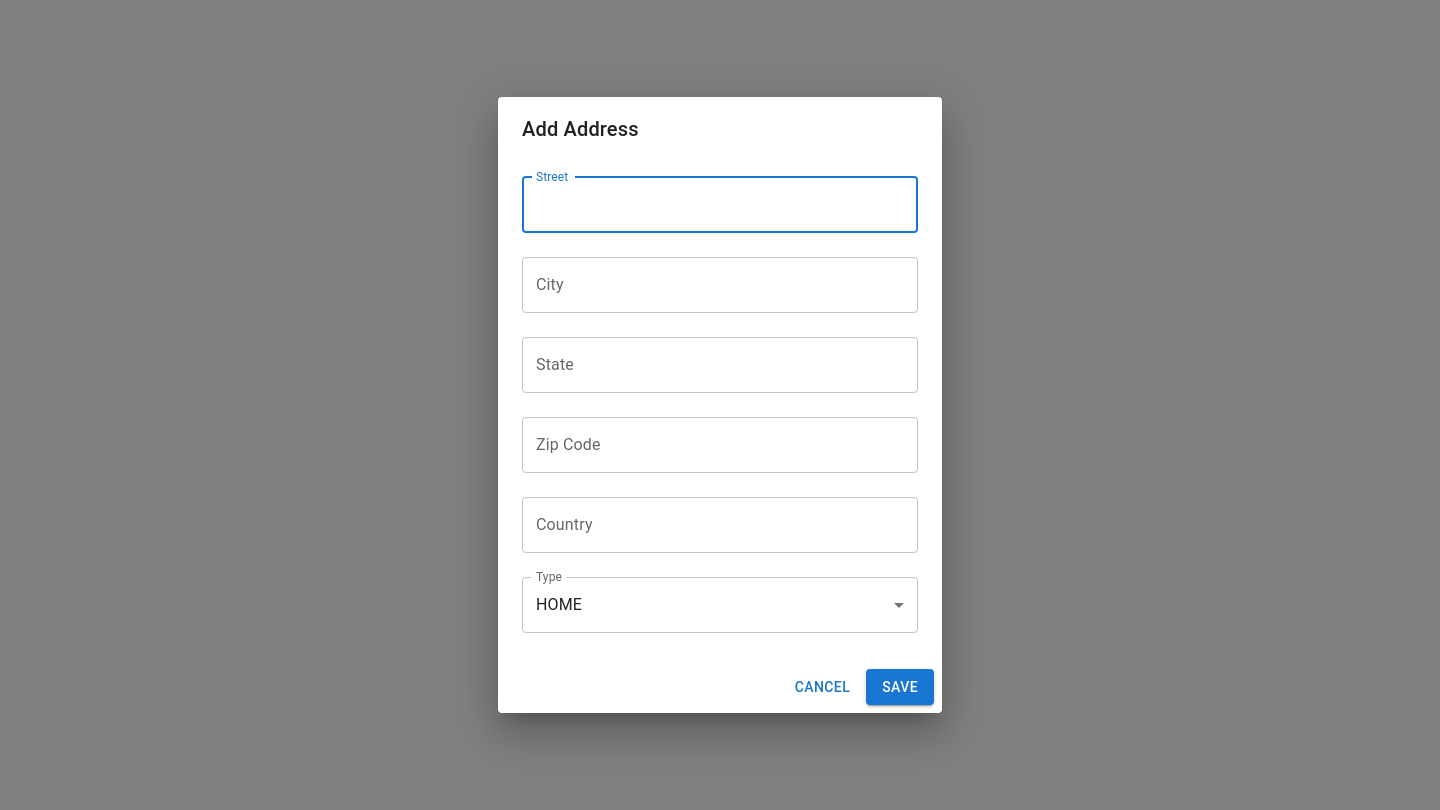
AddressFormDialog error paths › shows backend error when address creation fails
Type "1 Main St" into the field labelled "Street" at (720,205), box [522,177,918,233]
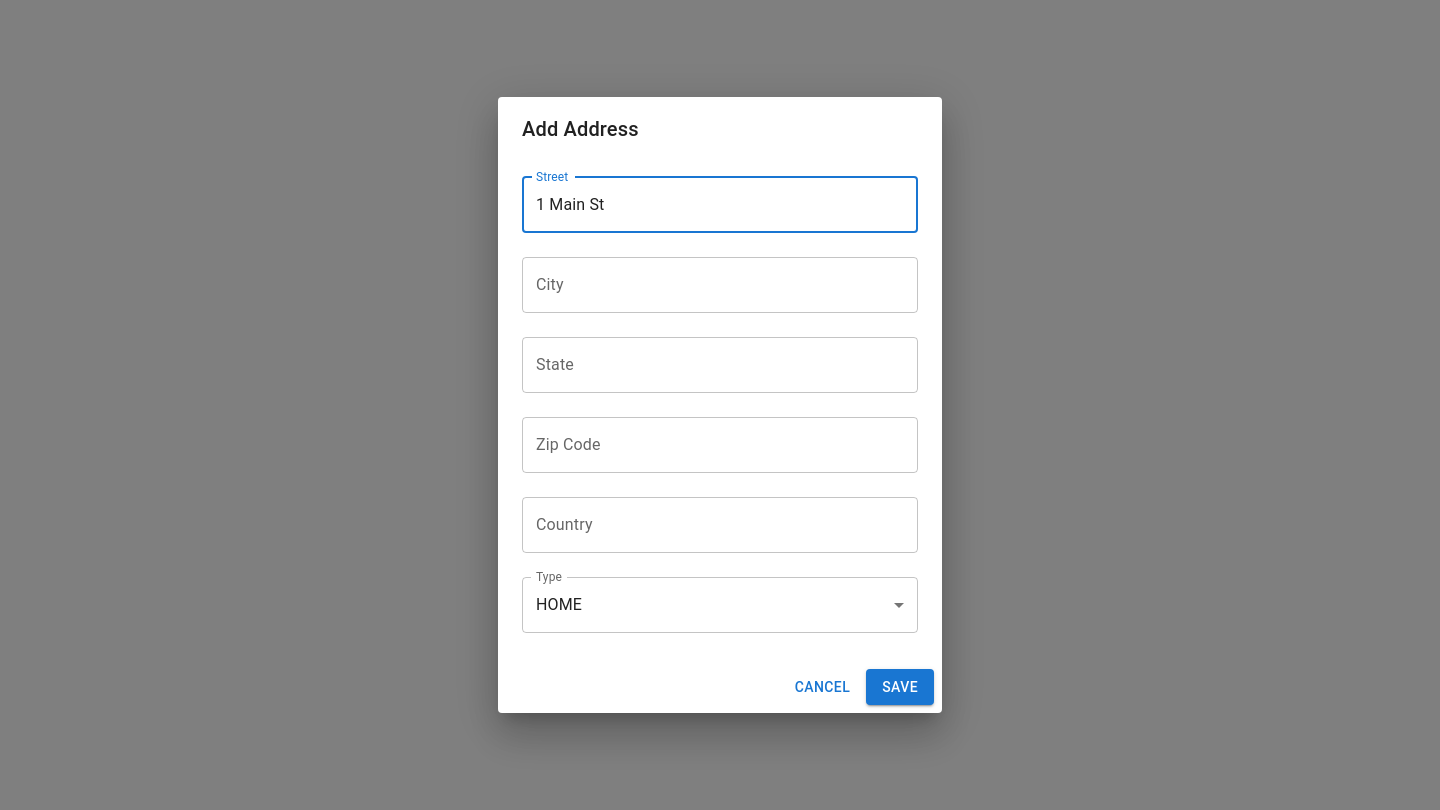
Type "Tel Aviv" into the field labelled "City" at (720,285), box [522,257,918,313]
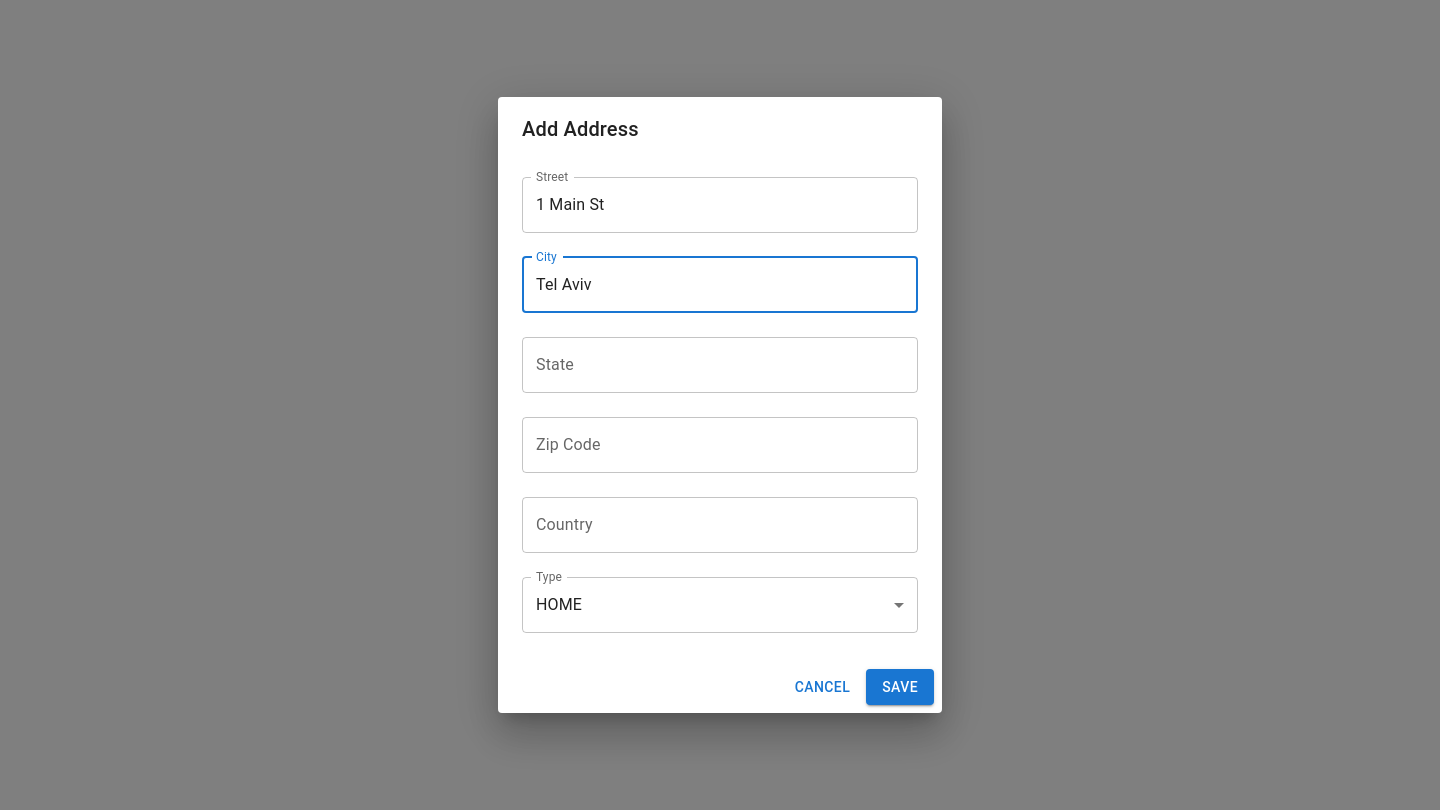
Type "61000" into the field labelled "Zip Code" at (720,445), box [522,417,918,473]
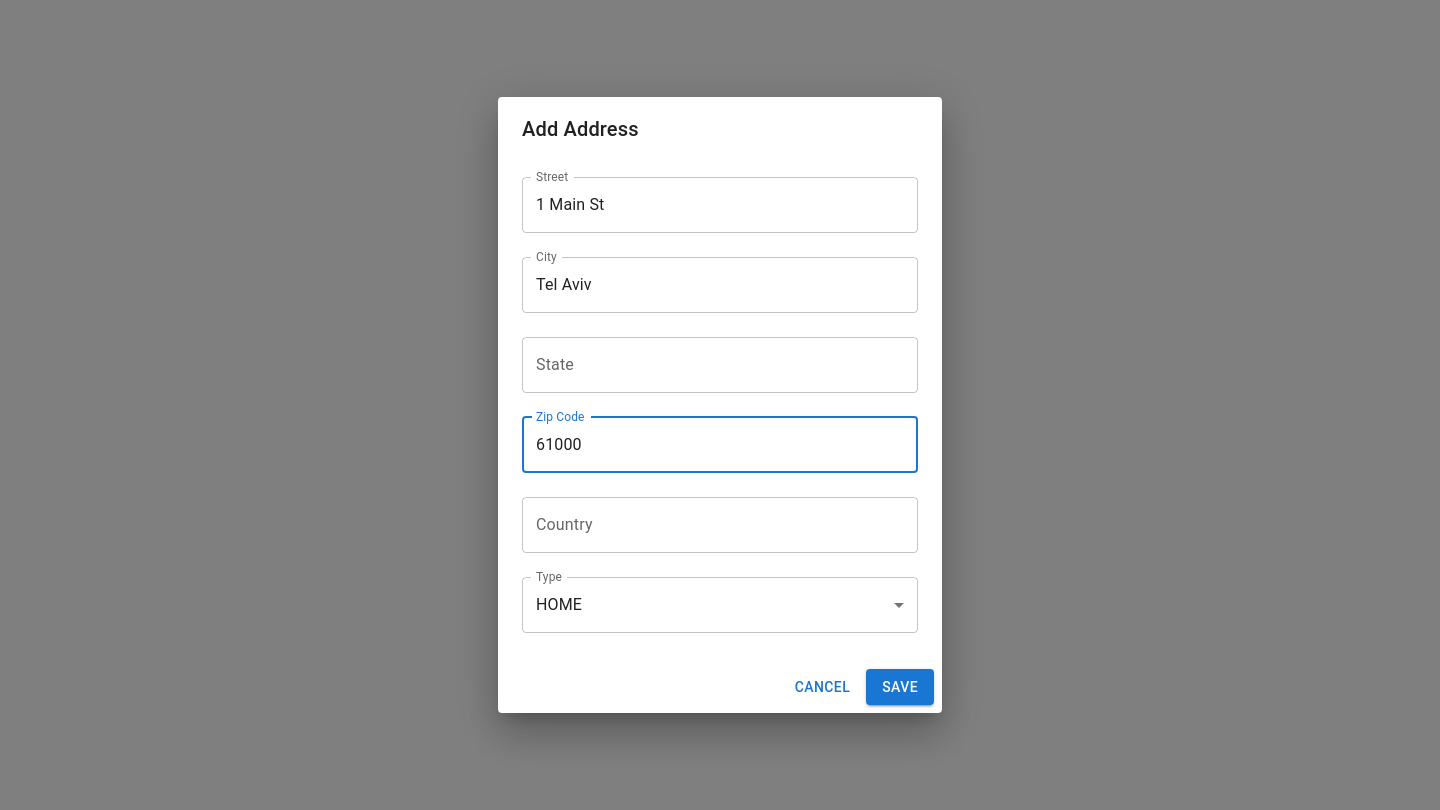
Type "IL" into the field labelled "Country" at (720,525), box [522,497,918,553]
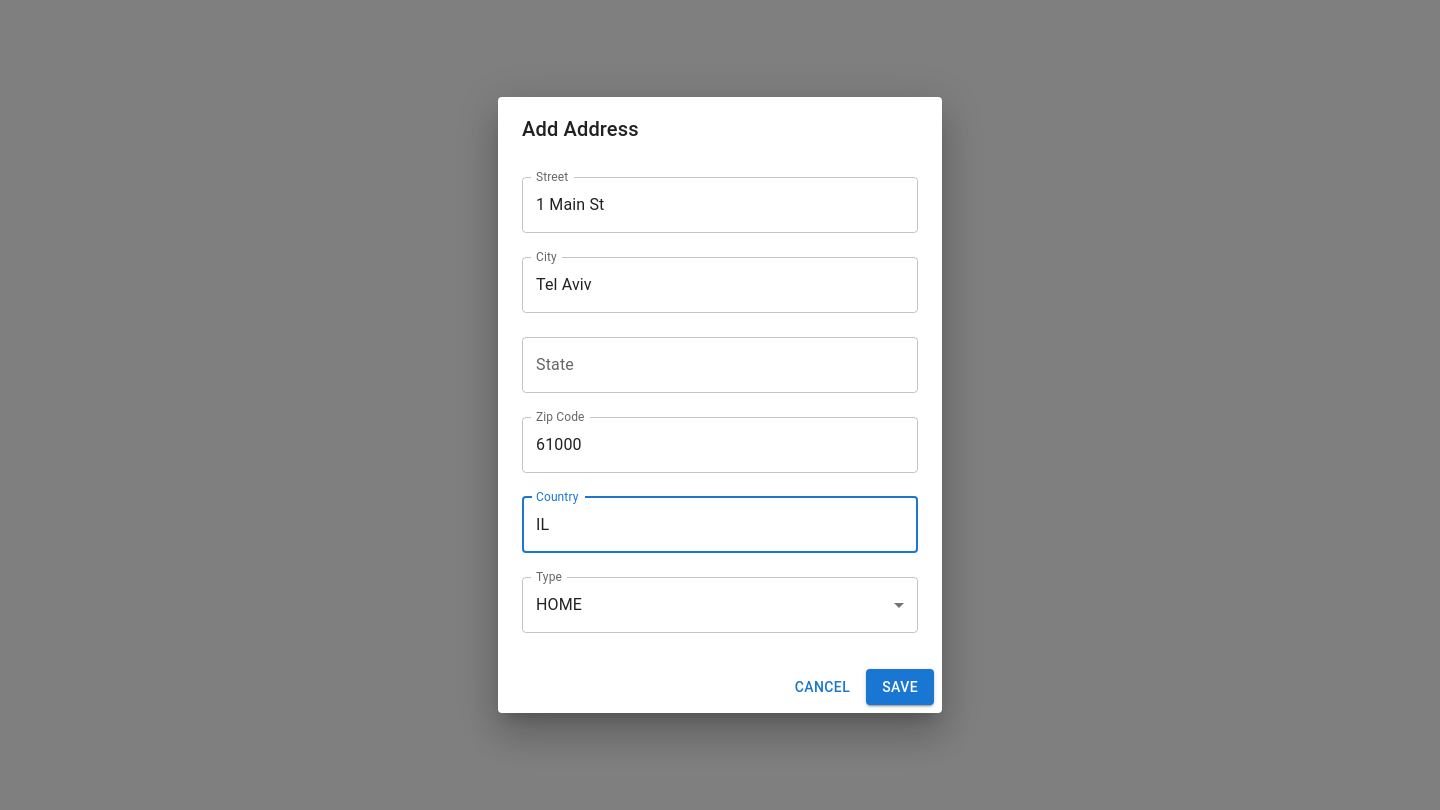
Click the button "Save" at (900,687), box [866,669,934,705]
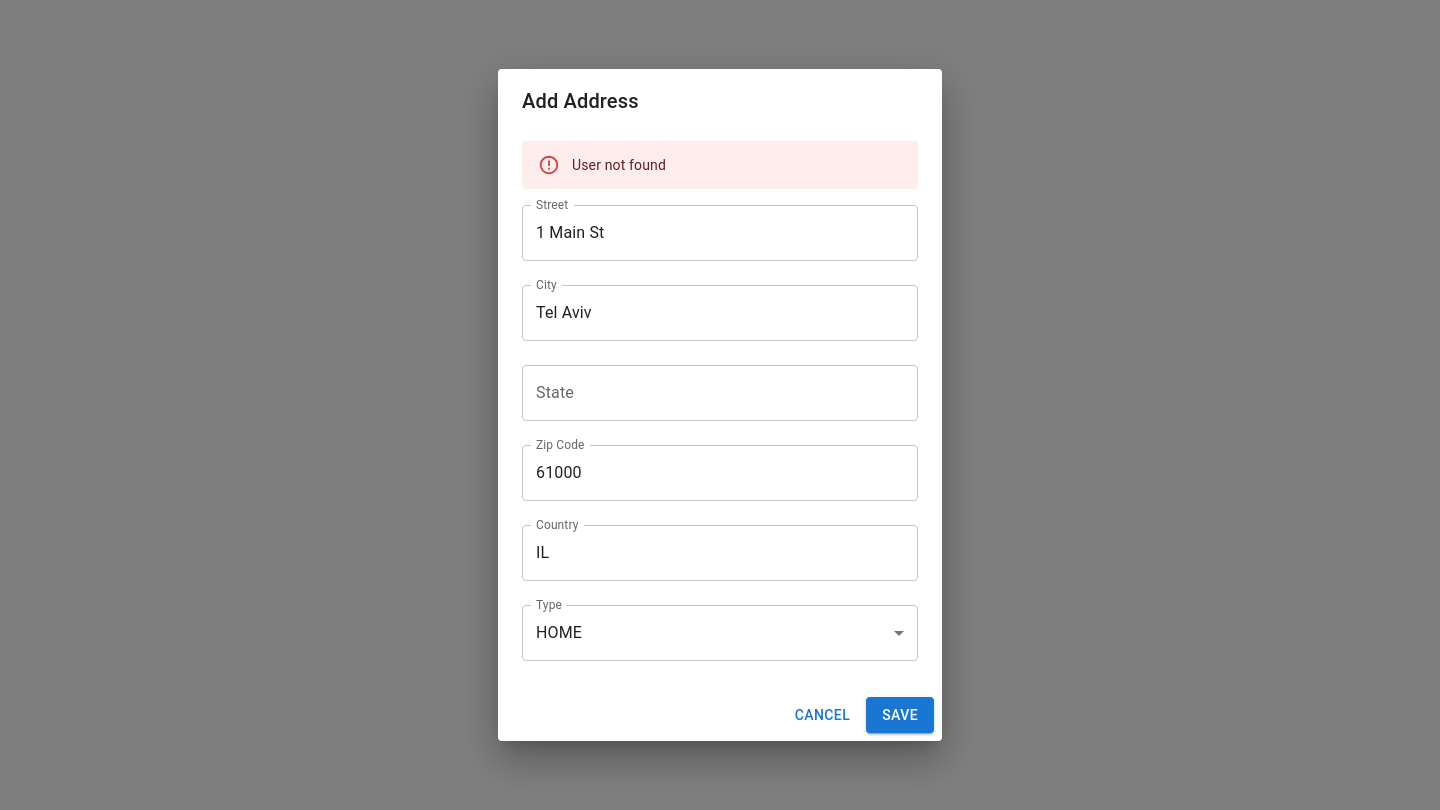
expect the message reads "User not found": met, box [572,157,666,173]
